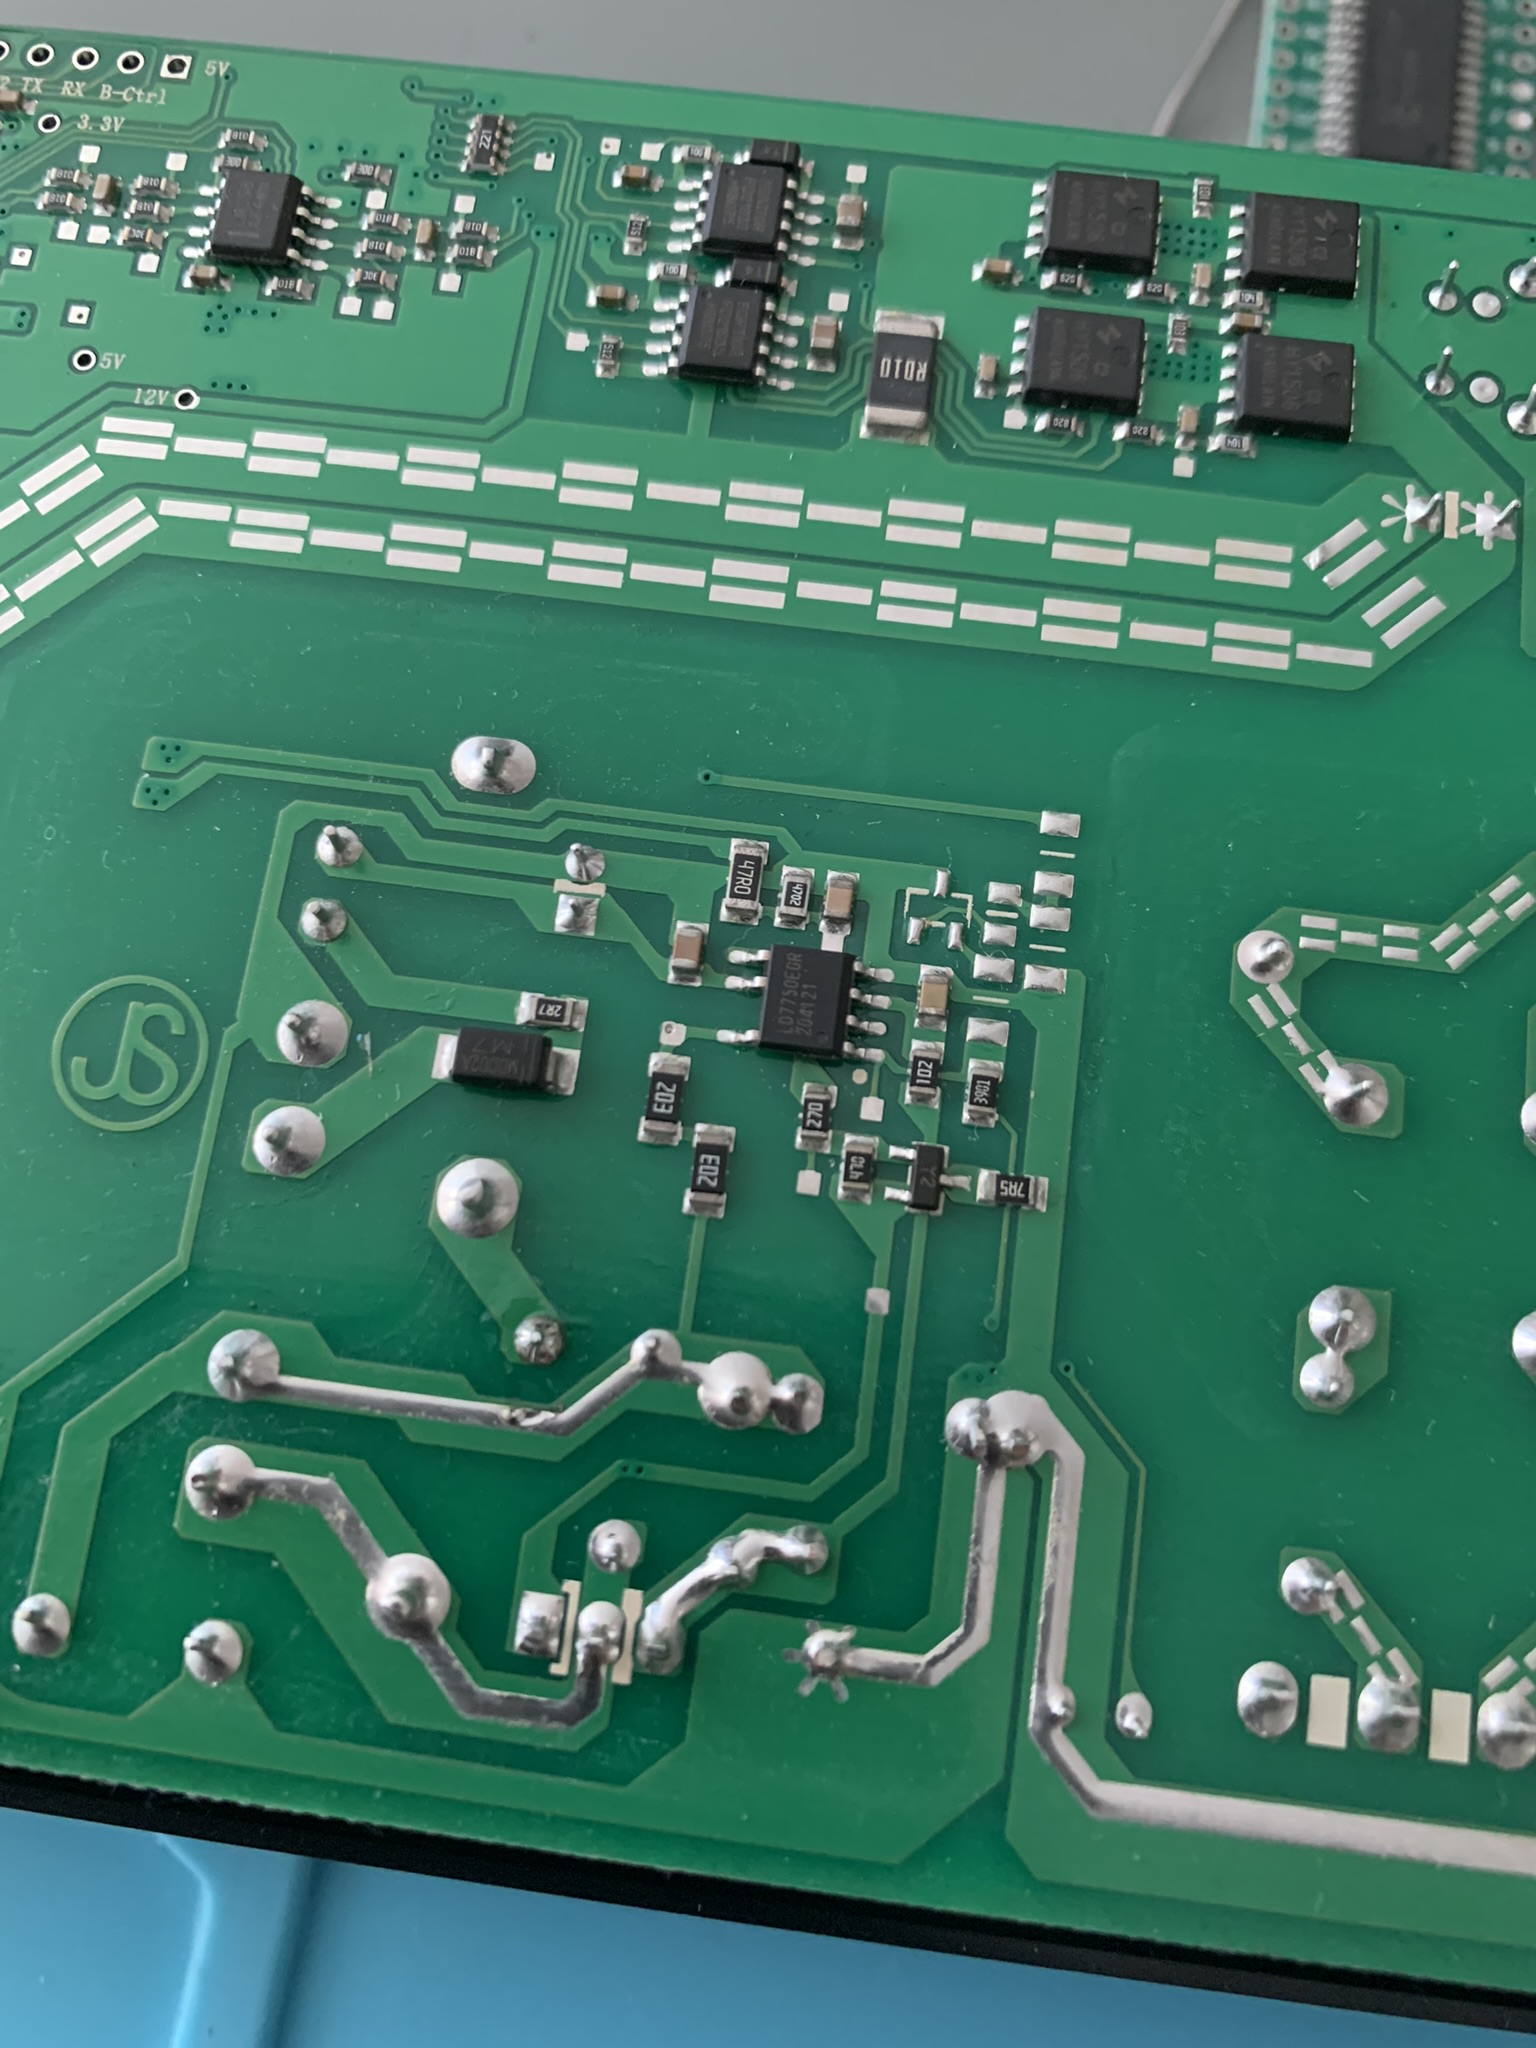capacitor_smd_mlc: (670, 927, 703, 972), (920, 974, 950, 1021), (824, 876, 854, 922), (834, 192, 865, 235), (810, 316, 837, 355), (1229, 311, 1265, 334), (595, 282, 628, 306), (189, 263, 221, 285), (983, 256, 1012, 279), (620, 164, 650, 185), (979, 353, 999, 385), (1192, 263, 1212, 293), (2, 89, 24, 114), (1181, 405, 1196, 439)
diode_smd: (450, 1027, 553, 1092), (728, 256, 787, 290), (750, 139, 805, 169)
ic_smd: (749, 943, 874, 1063), (1016, 306, 1149, 411), (1226, 334, 1355, 439), (1234, 192, 1362, 297), (1041, 169, 1163, 276), (665, 285, 778, 389), (198, 173, 311, 264)
resistor_smd: (868, 318, 936, 432), (691, 1132, 733, 1208), (644, 1063, 687, 1134), (723, 842, 766, 913), (966, 1064, 1004, 1119), (521, 993, 578, 1027), (987, 1171, 1039, 1206), (841, 1142, 876, 1192), (908, 1050, 942, 1098), (800, 1092, 831, 1143), (779, 872, 812, 921), (1049, 269, 1087, 292), (1136, 279, 1171, 302), (1120, 421, 1157, 442), (1044, 411, 1078, 434), (655, 260, 691, 281), (1217, 434, 1250, 455), (360, 237, 394, 258), (452, 244, 486, 263), (349, 161, 382, 181), (271, 277, 305, 297), (121, 226, 155, 245), (1168, 314, 1189, 345), (1231, 289, 1265, 306), (353, 269, 387, 287), (453, 219, 487, 237), (1194, 179, 1213, 210), (44, 190, 74, 210), (681, 144, 713, 161), (369, 210, 402, 227), (599, 339, 618, 368), (226, 127, 257, 145), (628, 214, 645, 244), (131, 202, 161, 218), (137, 176, 168, 192), (52, 168, 82, 184), (221, 153, 248, 169)
